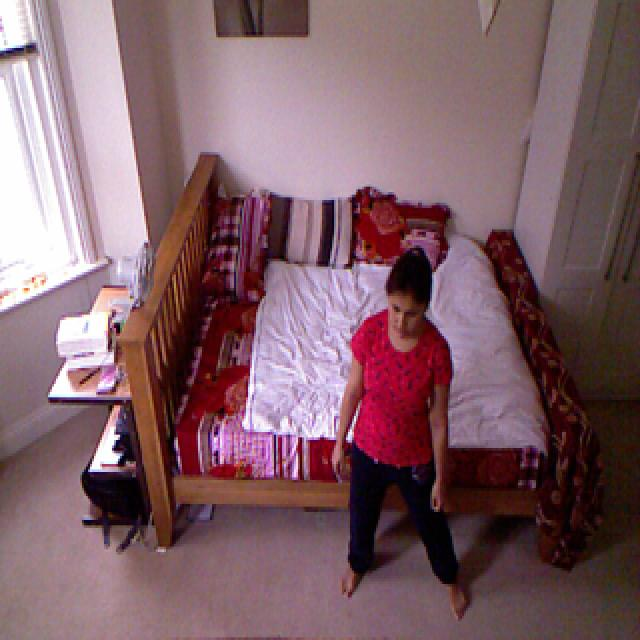standing: (339, 235, 462, 602)
